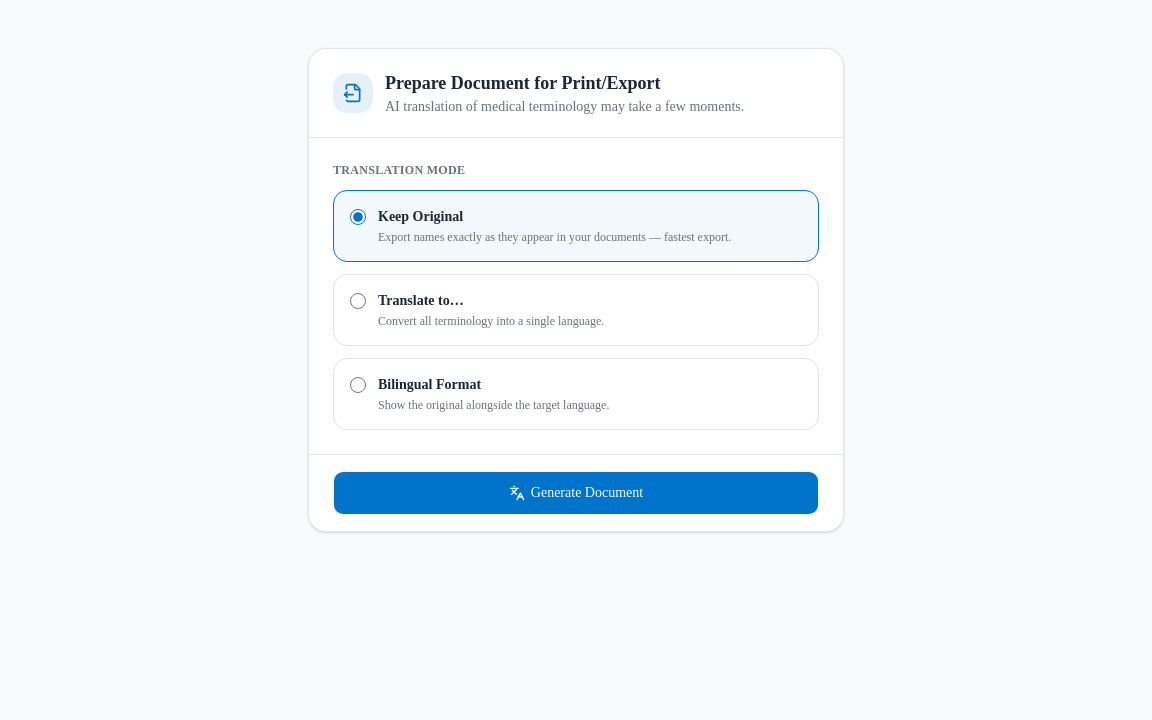
Scenario: PrintSetup › locks the toggle on cached rows and replaces fallback rows with a label
Click the 2nd radio button at (358, 301), box [350,293,366,309]
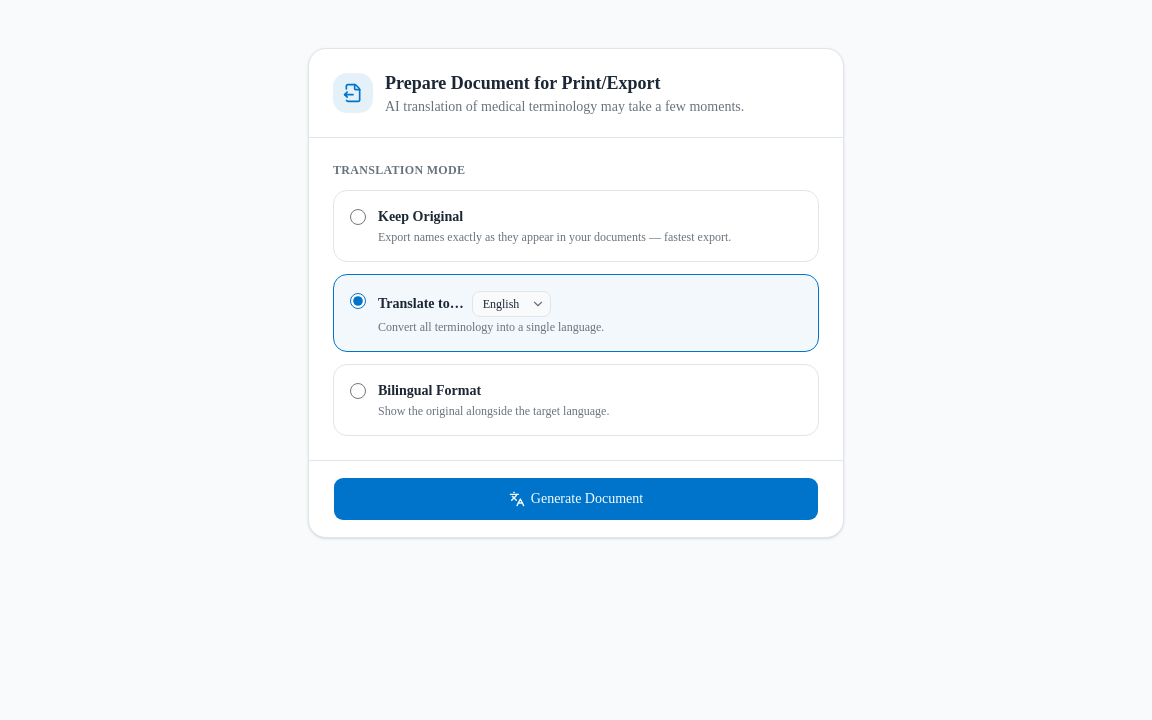
Select "German" in the dropdown at (511, 304), box [472,291,551,317]
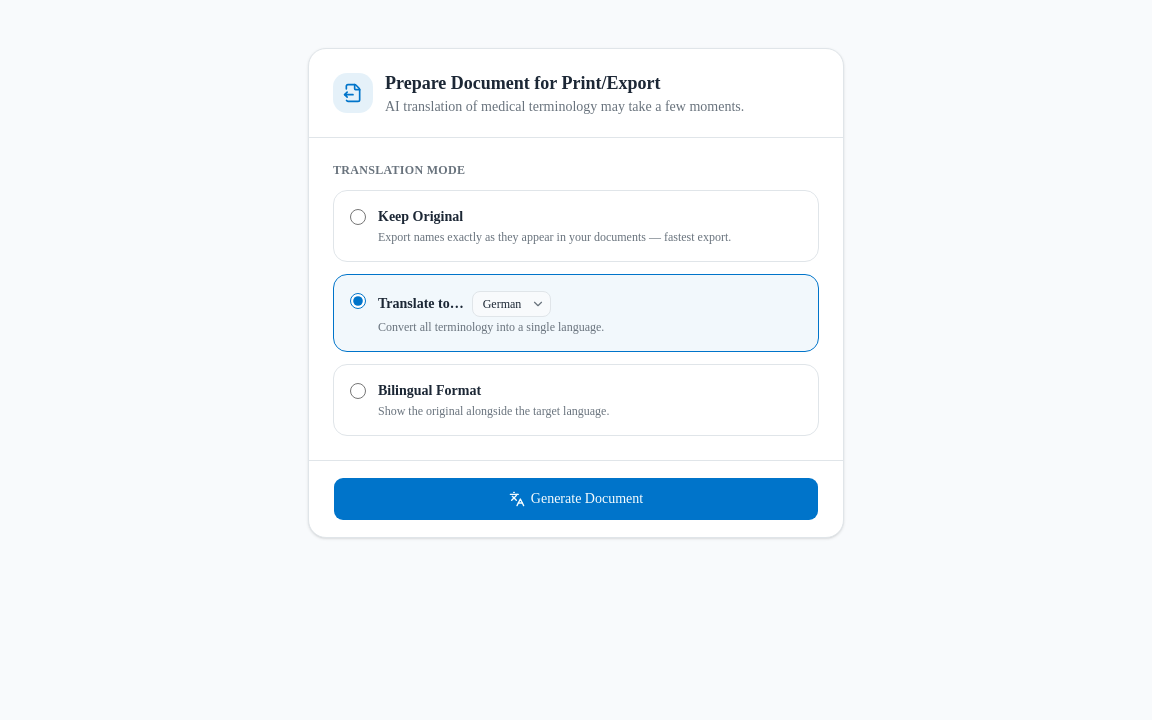
Click the button "Generate Document" at (576, 499), box [333,477,819,521]
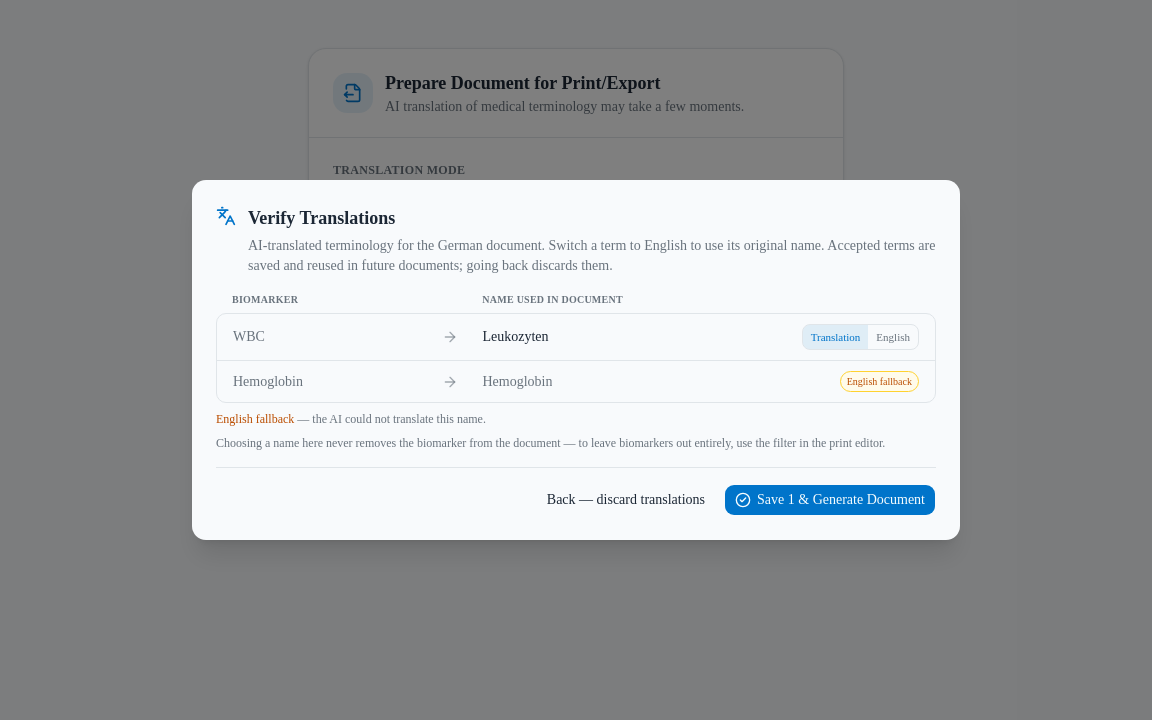
Expected: the heading "Verify Translations" is shown, [248,208,395,228]
Expected: the radio button with aria-label "Use English for WBC" is enabled, [868,325,918,349]
Expected: the 1st text titled "The AI could not translate this name." is shown, [840,371,919,392]
